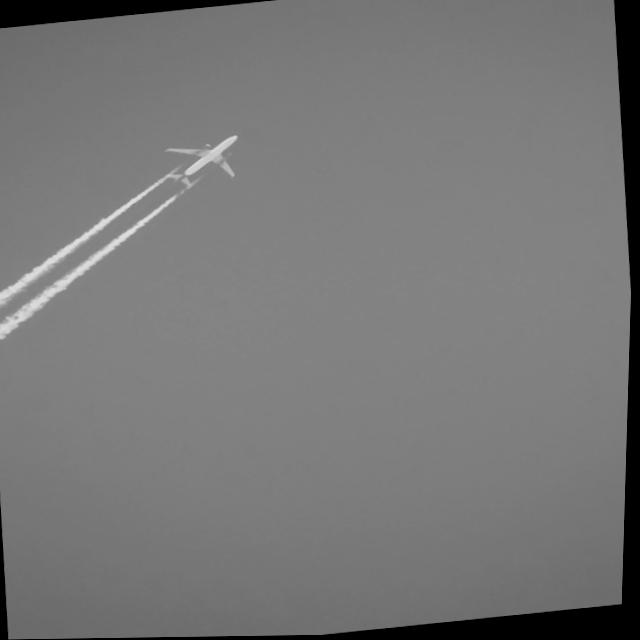aeroplane: (156, 127, 248, 193)
